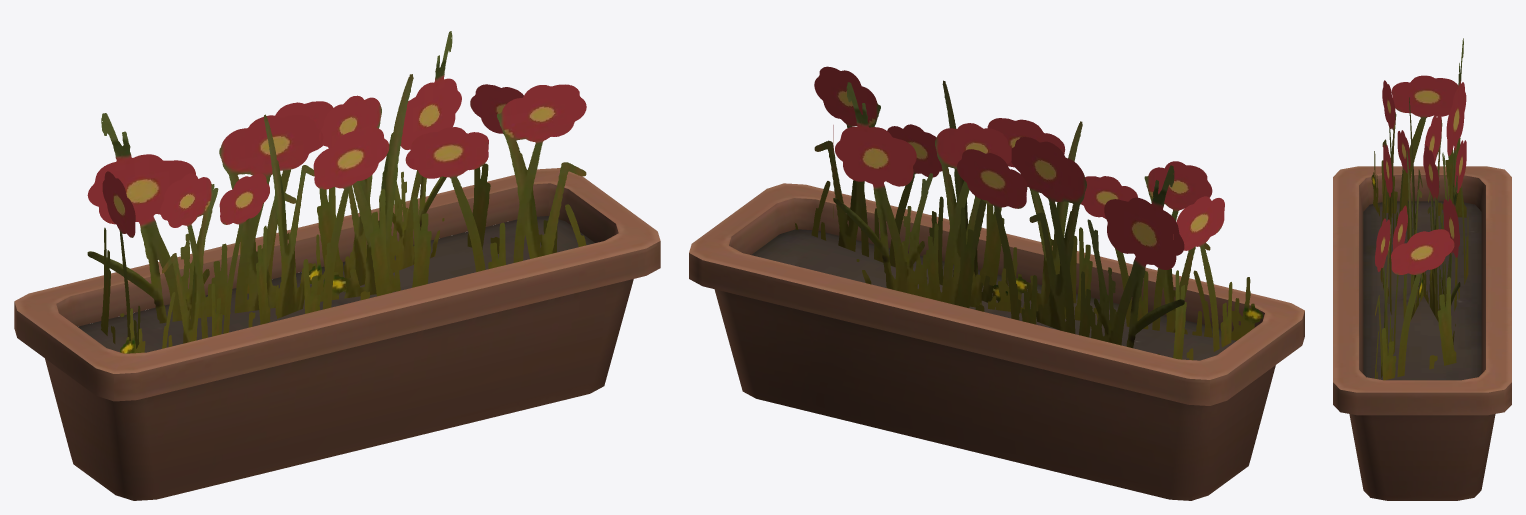
3 renders of one model, left to right at view 1: azimuth 30°, elevation 25°; view 2: azimuth 150°, elevation 25°; view 3: azimuth 270°, elevation 25°, orthographic. The views are drawn at different scales.
Visible parts, largest first — view 1: body0_model0_lod0_mesh0; view 2: body0_model0_lod0_mesh0; view 3: body0_model0_lod0_mesh0.
Boxes of the visible parts, <box> form: body0_model0_lod0_mesh0: <box>14,31,660,500</box>; body0_model0_lod0_mesh0: <box>689,66,1304,500</box>; body0_model0_lod0_mesh0: <box>1333,38,1511,500</box>.
Size of the model in its own units: 49.97 by 30.55 by 16.69.
Materials: 1 (1 with a texture image).
